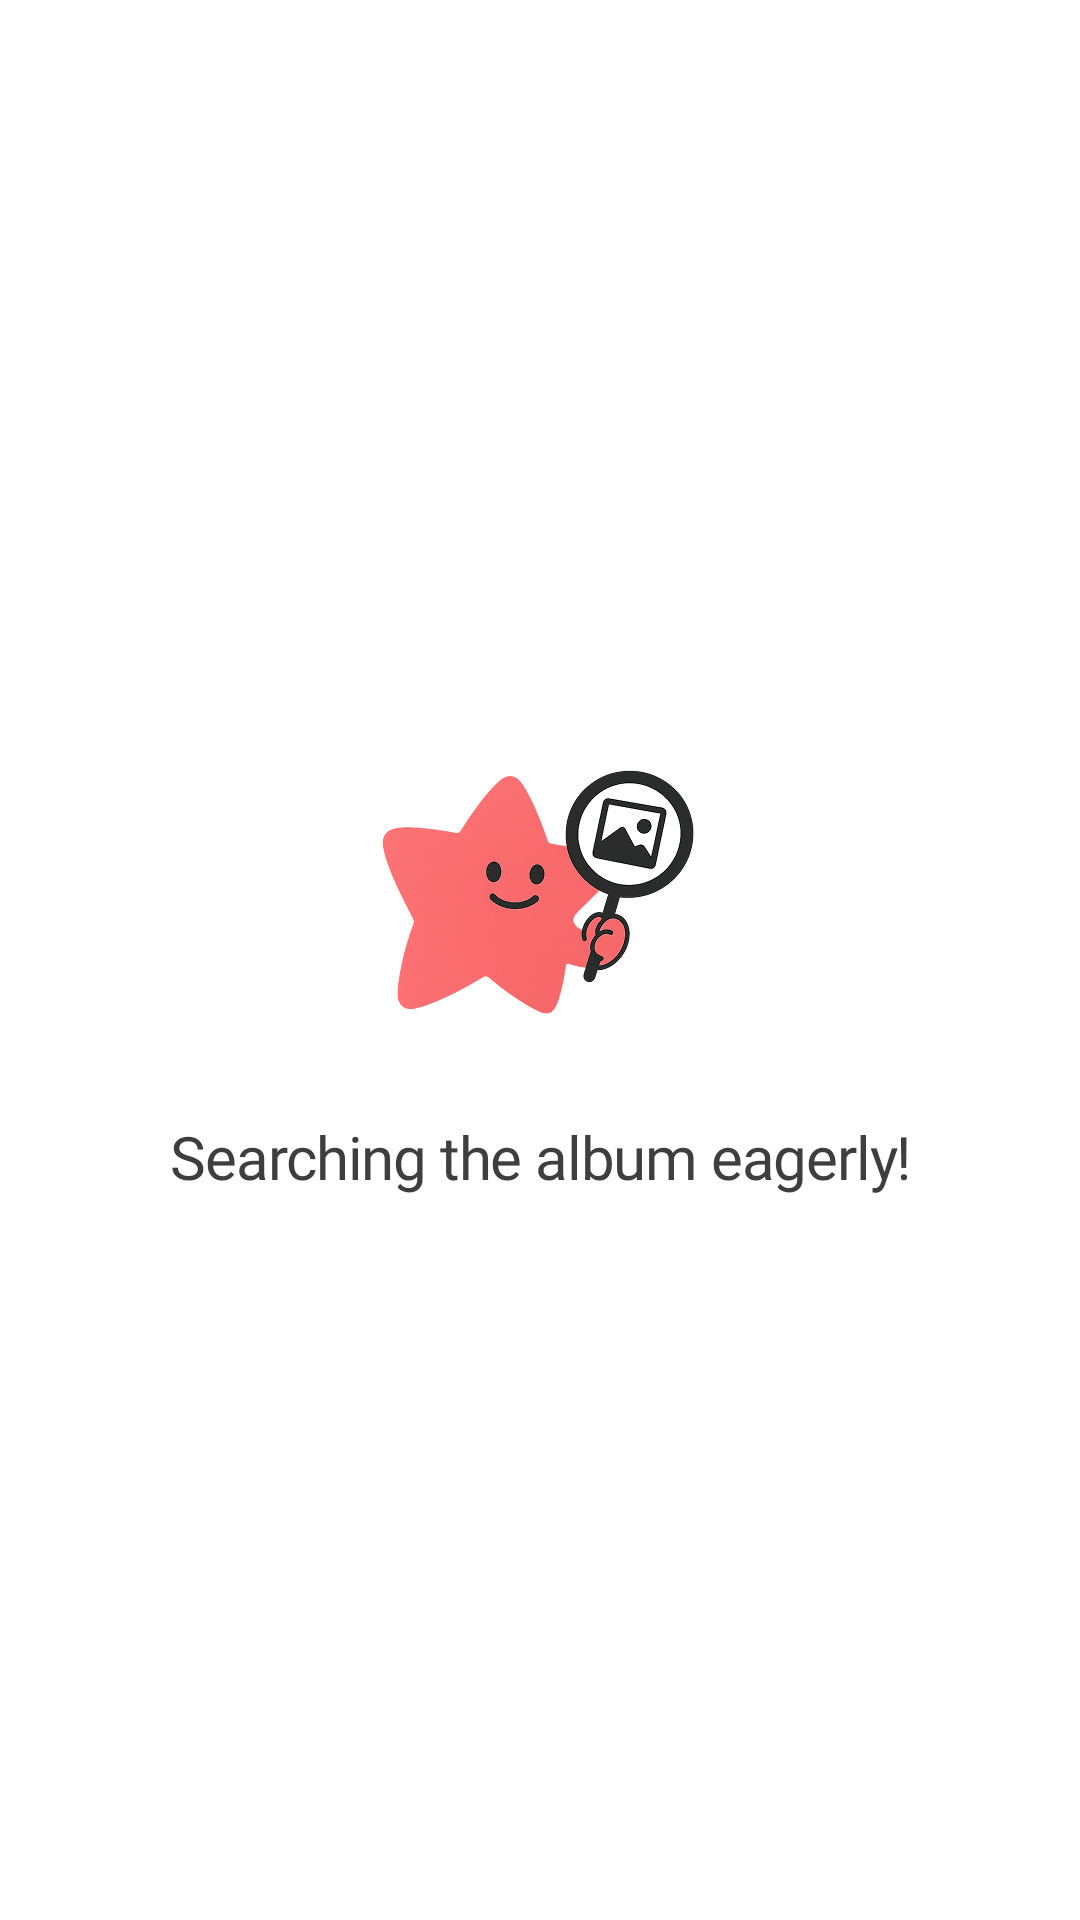

Named icons in this screenshot (1080×1920) and their centers, point (x, y):
Loading Image: point (538, 892)
